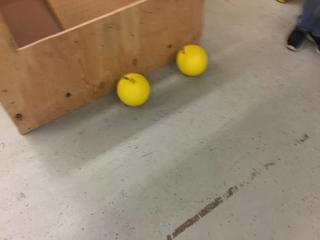power_cell: (115, 68, 154, 108), (175, 42, 211, 79)
